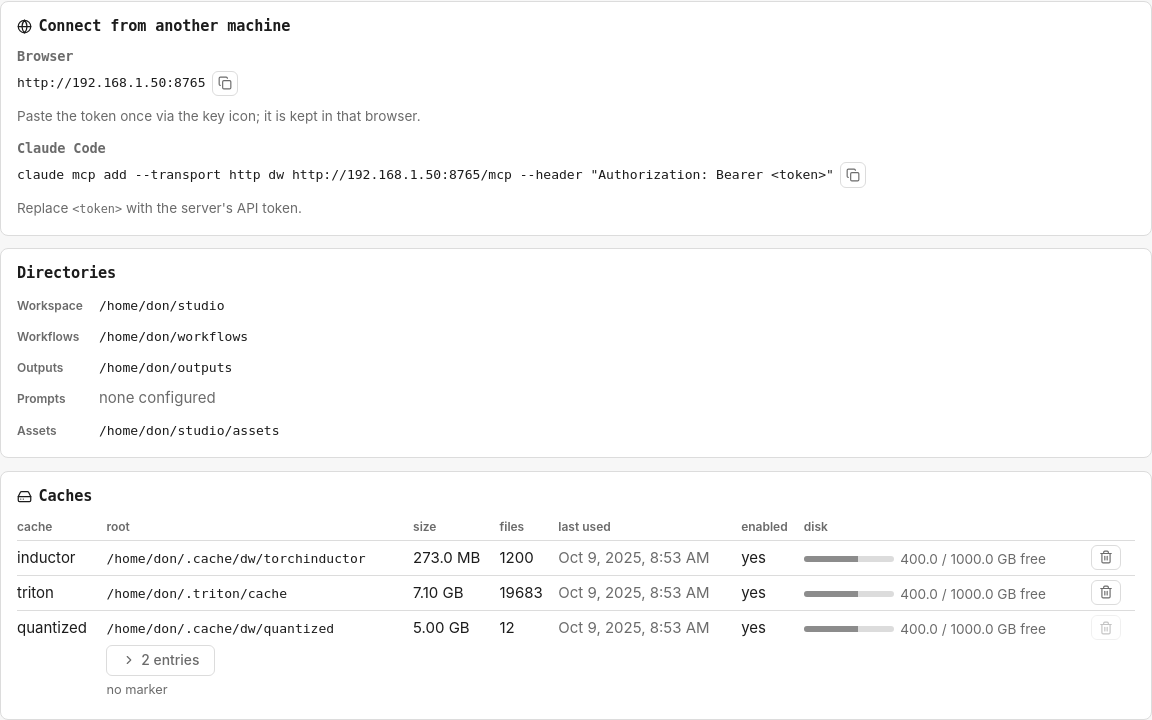
Test case: disables entry Delete when the cache is not clearable
This screenshot has width=1152, height=720.
(page scrolled)
Click the button with class "entrytoggle" at (161, 660), box x1=106 y1=645 x2=215 y2=676
(page scrolled)
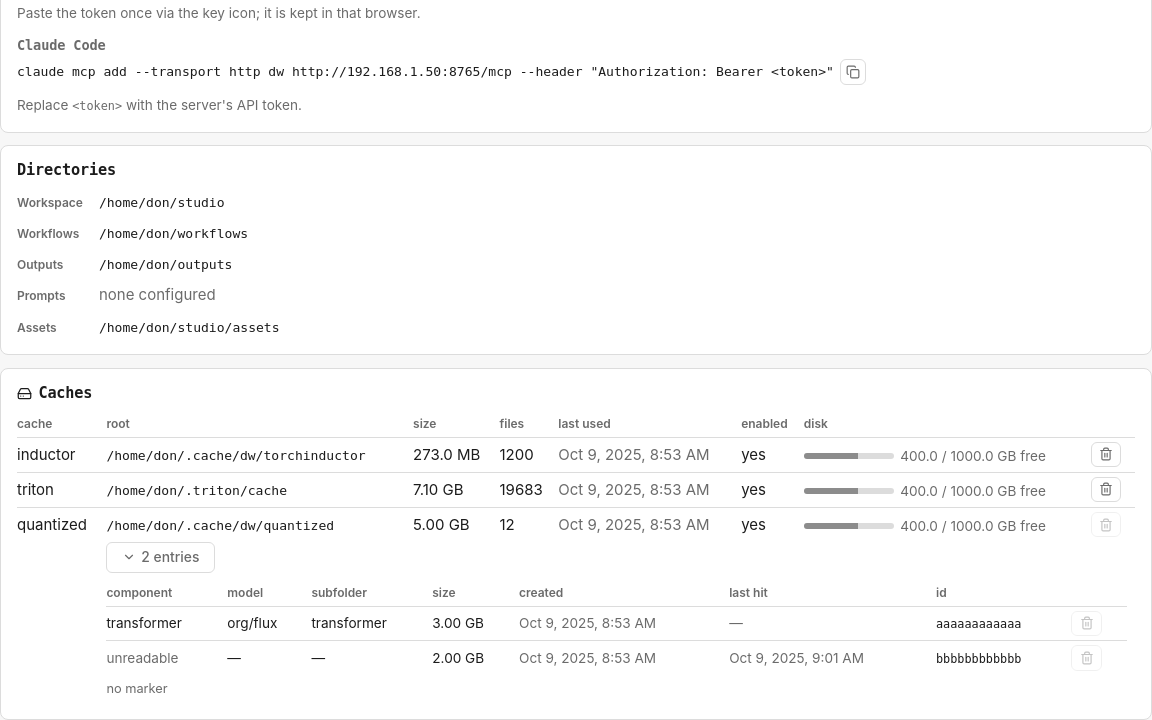
Result: the button named "delete transformer from the quantized cache" is disabled at x1=1071 y1=610 x2=1102 y2=636
Result: the button named "delete unreadable from the quantized cache" is disabled at x1=1071 y1=645 x2=1102 y2=671
